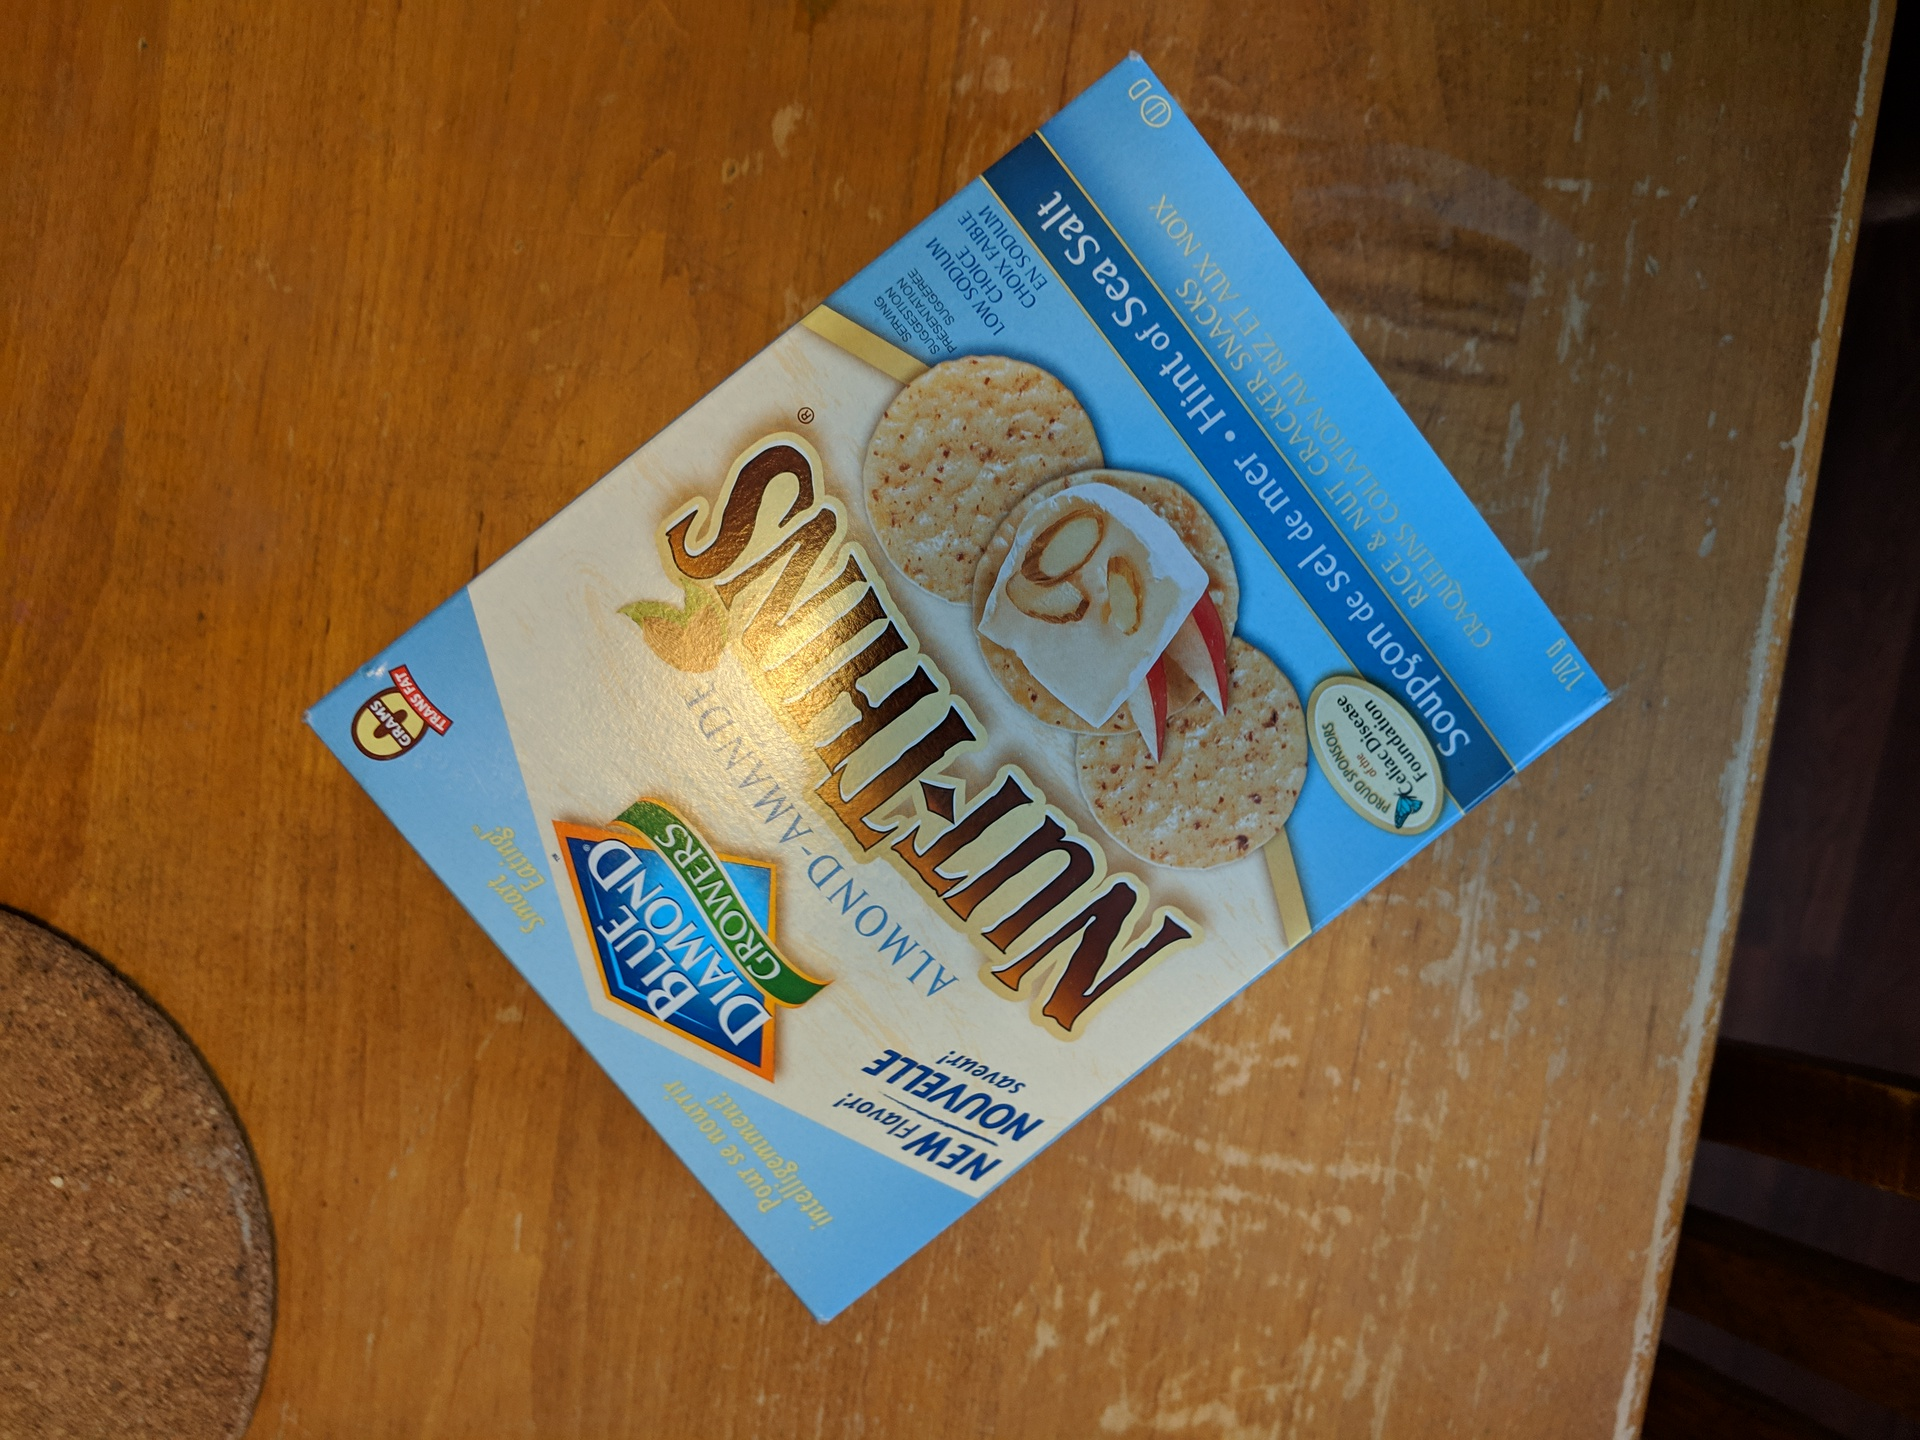blue_diamond_nut_thins_almond_seasalt: (416, 157, 1451, 1224)
